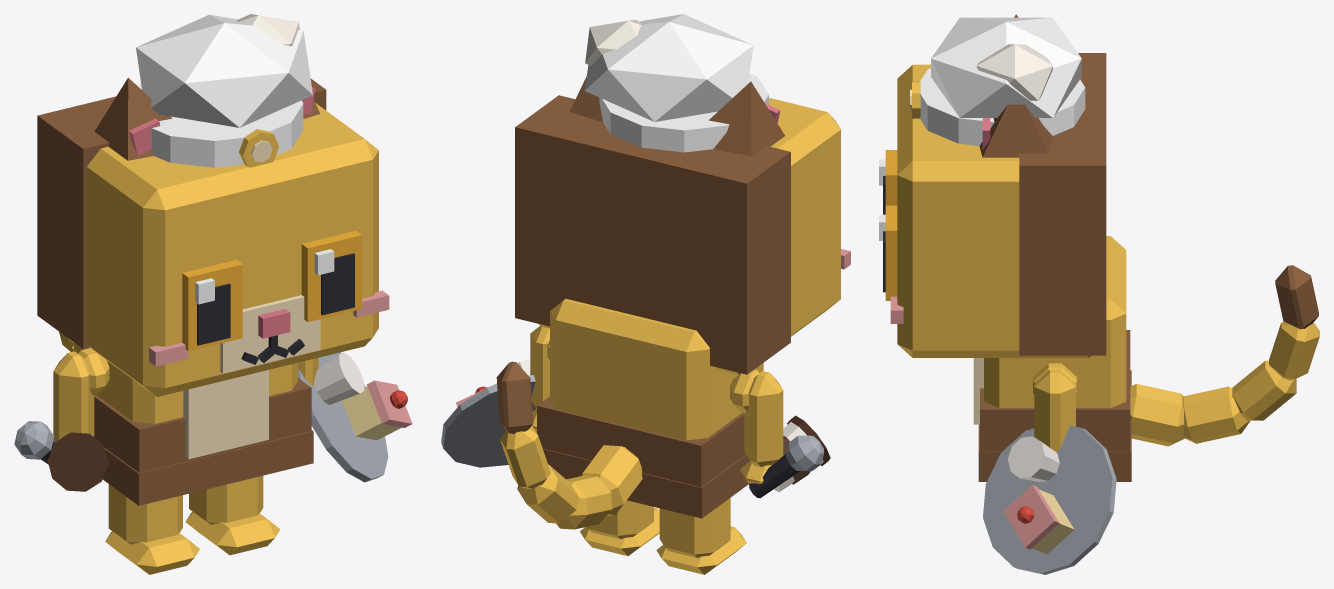
File: CatCafe_Cat_Crumpet_Work.fbx
The picture shows the model from 3 angles, left to right: view 1: azimuth 30°, elevation 25°; view 2: azimuth 150°, elevation 25°; view 3: azimuth 270°, elevation 25°; orthographic projection. The views are drawn at different scales.
Parts seen in each view (by area): view 1: CatCafe_Cat_Crumpet_Work_Head, CatCafe_Cat_Crumpet_Work_Body, CatCafe_Cat_Crumpet_Work_Prop, CatCafe_Cat_Crumpet_Work_Held_Waiter, CatCafe_Cat_Crumpet_Work_LegB2, CatCafe_Cat_Crumpet_Work_LegB1, CatCafe_Cat_Crumpet_Work_Eye2, CatCafe_Cat_Crumpet_Work_Eye1, CatCafe_Cat_Crumpet_Work_EarR, CatCafe_Cat_Crumpet_Work_LegF2, CatCafe_Cat_Crumpet_Work_Held_Barista, CatCafe_Cat_Crumpet_Work_Held_Entertainer; view 2: CatCafe_Cat_Crumpet_Work_Head, CatCafe_Cat_Crumpet_Work_Body, CatCafe_Cat_Crumpet_Work_Prop, CatCafe_Cat_Crumpet_Work_Tail, CatCafe_Cat_Crumpet_Work_LegB2, CatCafe_Cat_Crumpet_Work_Held_Waiter, CatCafe_Cat_Crumpet_Work_LegF2, CatCafe_Cat_Crumpet_Work_EarR, CatCafe_Cat_Crumpet_Work_LegB1, CatCafe_Cat_Crumpet_Work_Held_Entertainer, CatCafe_Cat_Crumpet_Work_LegF1, CatCafe_Cat_Crumpet_Work_Held_Barista (+1 smaller); view 3: CatCafe_Cat_Crumpet_Work_Head, CatCafe_Cat_Crumpet_Work_Prop, CatCafe_Cat_Crumpet_Work_Held_Waiter, CatCafe_Cat_Crumpet_Work_Body, CatCafe_Cat_Crumpet_Work_Tail, CatCafe_Cat_Crumpet_Work_EarL, CatCafe_Cat_Crumpet_Work_LegF1, CatCafe_Cat_Crumpet_Work_Eye1, CatCafe_Cat_Crumpet_Work_Eye2.
Boxes of the visible parts, <box> form: CatCafe_Cat_Crumpet_Work_Head: <box>37,78,389,396</box>; CatCafe_Cat_Crumpet_Work_Body: <box>74,342,313,505</box>; CatCafe_Cat_Crumpet_Work_Prop: <box>136,14,312,167</box>; CatCafe_Cat_Crumpet_Work_Held_Waiter: <box>298,352,412,482</box>; CatCafe_Cat_Crumpet_Work_LegB2: <box>105,484,199,574</box>; CatCafe_Cat_Crumpet_Work_LegB1: <box>185,475,280,555</box>; CatCafe_Cat_Crumpet_Work_Eye2: <box>182,260,242,351</box>; CatCafe_Cat_Crumpet_Work_Eye1: <box>301,230,361,321</box>; CatCafe_Cat_Crumpet_Work_EarR: <box>94,77,172,160</box>; CatCafe_Cat_Crumpet_Work_LegF2: <box>53,351,94,441</box>; CatCafe_Cat_Crumpet_Work_Held_Barista: <box>47,432,108,491</box>; CatCafe_Cat_Crumpet_Work_Held_Entertainer: <box>14,421,54,464</box>; CatCafe_Cat_Crumpet_Work_Head: <box>515,95,850,374</box>; CatCafe_Cat_Crumpet_Work_Body: <box>537,299,763,518</box>; CatCafe_Cat_Crumpet_Work_Prop: <box>584,14,768,152</box>; CatCafe_Cat_Crumpet_Work_Tail: <box>496,361,642,529</box>; CatCafe_Cat_Crumpet_Work_LegB2: <box>656,498,746,574</box>; CatCafe_Cat_Crumpet_Work_Held_Waiter: <box>441,359,535,467</box>; CatCafe_Cat_Crumpet_Work_LegF2: <box>740,371,783,484</box>; CatCafe_Cat_Crumpet_Work_EarR: <box>708,81,784,156</box>; CatCafe_Cat_Crumpet_Work_LegB1: <box>580,500,659,555</box>; CatCafe_Cat_Crumpet_Work_Held_Entertainer: <box>749,435,823,498</box>; CatCafe_Cat_Crumpet_Work_LegF1: <box>530,326,549,432</box>; CatCafe_Cat_Crumpet_Work_Held_Barista: <box>774,415,830,492</box>; CatCafe_Cat_Crumpet_Work_Head: <box>890,53,1106,357</box>; CatCafe_Cat_Crumpet_Work_Prop: <box>910,17,1085,145</box>; CatCafe_Cat_Crumpet_Work_Held_Waiter: <box>983,425,1116,574</box>; CatCafe_Cat_Crumpet_Work_Body: <box>973,236,1131,481</box>; CatCafe_Cat_Crumpet_Work_Tail: <box>1130,265,1319,446</box>; CatCafe_Cat_Crumpet_Work_EarL: <box>979,104,1052,157</box>; CatCafe_Cat_Crumpet_Work_LegF1: <box>1034,369,1075,451</box>; CatCafe_Cat_Crumpet_Work_Eye1: <box>879,205,897,300</box>; CatCafe_Cat_Crumpet_Work_Eye2: <box>879,150,897,214</box>.
Size of the model in its own units: 1.53 by 2.06 by 1.62.
1 material, 1 textured.
